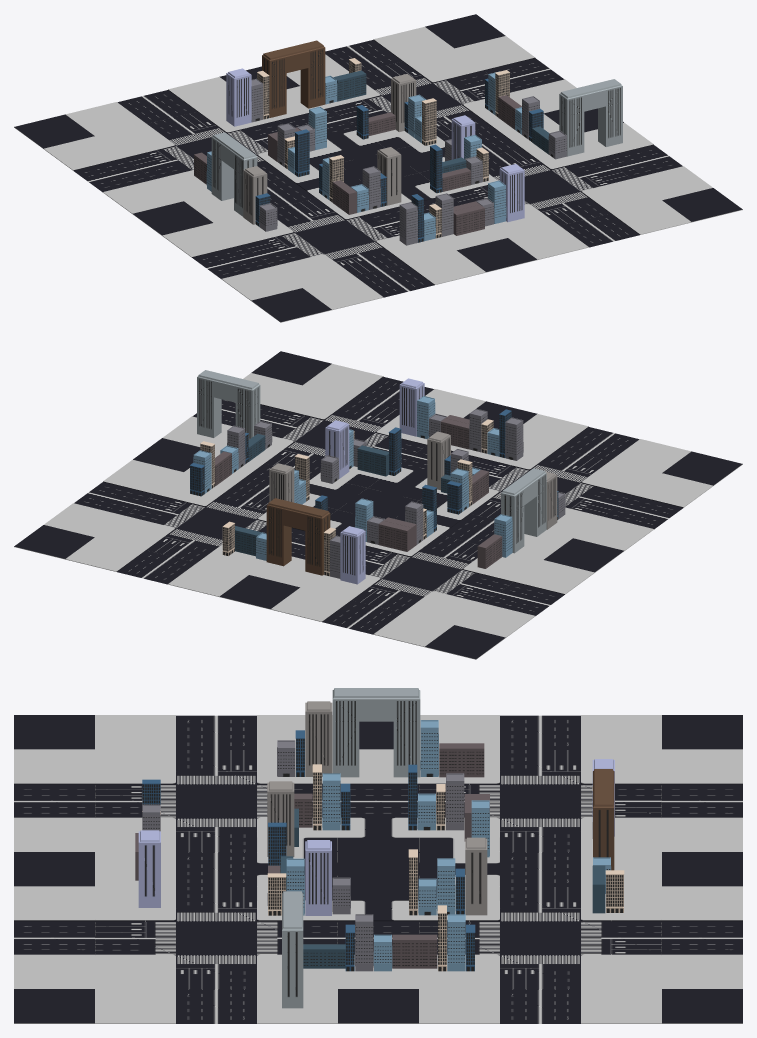
Rendered from Stage.fbx.
3 renders of one model, top to bottom at view 1: azimuth 30°, elevation 25°; view 2: azimuth 150°, elevation 25°; view 3: azimuth 270°, elevation 25°, orthographic. The views are drawn at different scales.
Visible parts, largest first — view 1: Ground, Building4_alter_top.2, Building4_alter_top, Building4, Building4_alter_top.1, Building4.005, Building4.001, Building4_alter_left.001, Building4.004, Building4_alter_right.2, Building4.003, Building4_alter_left.2 (+17 smaller); view 2: Ground, Building4_alter_top, Building4_alter_top.2, Building4, Building4_alter_top.1, Building4.005, Building4.001, Building4.002, Building4_alter_left.001, Building4_alter_right.2, Building4.003, Building4_alter_left.1 (+16 smaller); view 3: Ground, Building4_alter_top.1, Building4.002, Building4.004, Building4.003, Building4.005, Building3.008, Building4_alter_left.1, Building4.001, Building3.005, Building4_alter_right.1, Building4_alter_top.2 (+26 smaller).
Boxes of the visible parts, bbox=[...] form: Ground: bbox=[14, 14, 742, 322]; Building4_alter_top.2: bbox=[559, 79, 622, 115]; Building4_alter_top: bbox=[262, 40, 325, 77]; Building4: bbox=[226, 68, 251, 126]; Building4_alter_top.1: bbox=[211, 132, 257, 175]; Building4.005: bbox=[499, 164, 524, 222]; Building4.001: bbox=[377, 147, 401, 205]; Building4_alter_left.001: bbox=[300, 64, 325, 108]; Building4.004: bbox=[243, 166, 267, 224]; Building4_alter_right.2: bbox=[598, 102, 622, 146]; Building4.003: bbox=[391, 73, 416, 131]; Building4_alter_left.2: bbox=[559, 110, 584, 156]; Ground: bbox=[14, 351, 742, 659]; Building4_alter_top: bbox=[266, 498, 330, 534]; Building4_alter_top.2: bbox=[197, 370, 260, 406]; Building4: bbox=[340, 526, 365, 584]; Building4_alter_top.1: bbox=[501, 468, 546, 512]; Building4.005: bbox=[399, 378, 424, 436]; Building4.001: bbox=[427, 431, 450, 490]; Building4.002: bbox=[325, 420, 349, 478]; Building4_alter_left.001: bbox=[266, 521, 291, 566]; Building4_alter_right.2: bbox=[197, 393, 221, 437]; Building4.003: bbox=[269, 463, 294, 502]; Building4_alter_left.1: bbox=[524, 489, 546, 536]; Ground: bbox=[14, 715, 742, 1023]; Building4_alter_top.1: bbox=[332, 688, 420, 721]; Building4.002: bbox=[305, 840, 331, 915]; Building4.004: bbox=[305, 701, 332, 776]; Building4.003: bbox=[465, 837, 487, 915]; Building4.005: bbox=[138, 830, 160, 907]; Building3.008: bbox=[392, 934, 437, 968]; Building4_alter_left.1: bbox=[332, 721, 359, 777]; Building4.001: bbox=[267, 781, 294, 856]; Building3.005: bbox=[439, 743, 484, 777]; Building4_alter_right.1: bbox=[393, 721, 420, 777]; Building4_alter_top.2: bbox=[282, 891, 303, 952].
Bounding box in the file's own units: 81 × 10.08 × 81.
19 materials, 19 textured.
